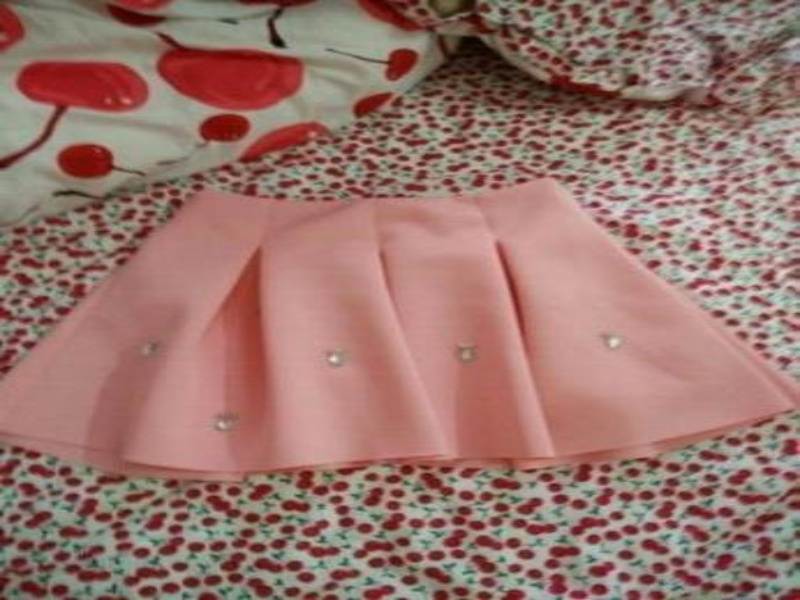skirt: (0, 177, 798, 485)
